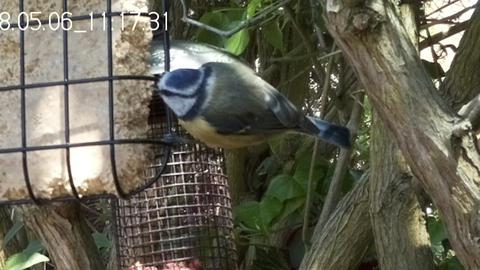blue tit: (150, 62, 350, 151)
